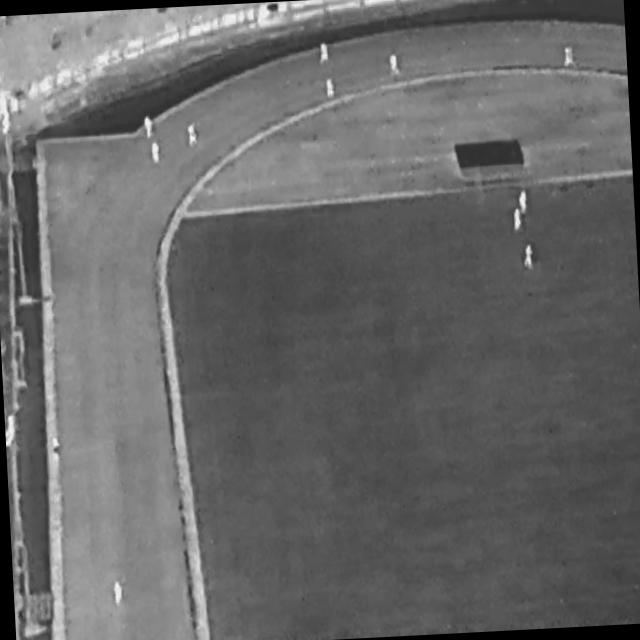person: (53, 435, 64, 466), (114, 579, 125, 607), (563, 47, 576, 68), (525, 245, 535, 271), (188, 126, 199, 149), (389, 55, 400, 78), (320, 43, 330, 67), (514, 209, 524, 233), (520, 191, 529, 215), (327, 79, 337, 100), (152, 143, 161, 166), (145, 117, 154, 140)
